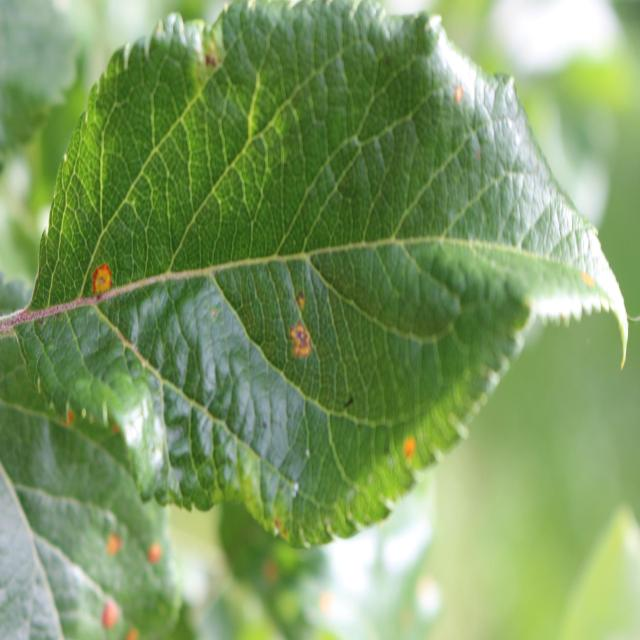Rust: (279, 276, 323, 380), (394, 416, 424, 484), (86, 254, 116, 316), (576, 250, 600, 314), (448, 72, 469, 123)
